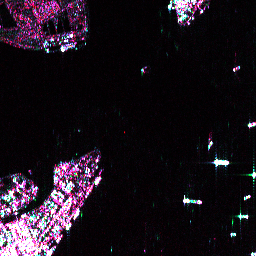ship: (181, 196, 203, 206), (212, 158, 229, 166), (230, 63, 241, 73), (246, 118, 256, 129), (241, 192, 252, 201), (93, 176, 102, 186), (64, 222, 73, 232), (55, 234, 64, 244), (72, 210, 81, 219), (206, 139, 213, 150), (236, 213, 248, 219), (249, 168, 255, 179), (228, 231, 236, 236)
